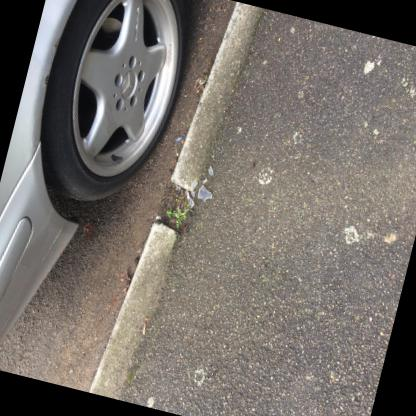Plastic: (198, 184, 213, 201)
Waste: (191, 178, 198, 190), (187, 191, 192, 205), (209, 166, 213, 174), (191, 200, 195, 207), (191, 190, 195, 197), (203, 177, 207, 183)
